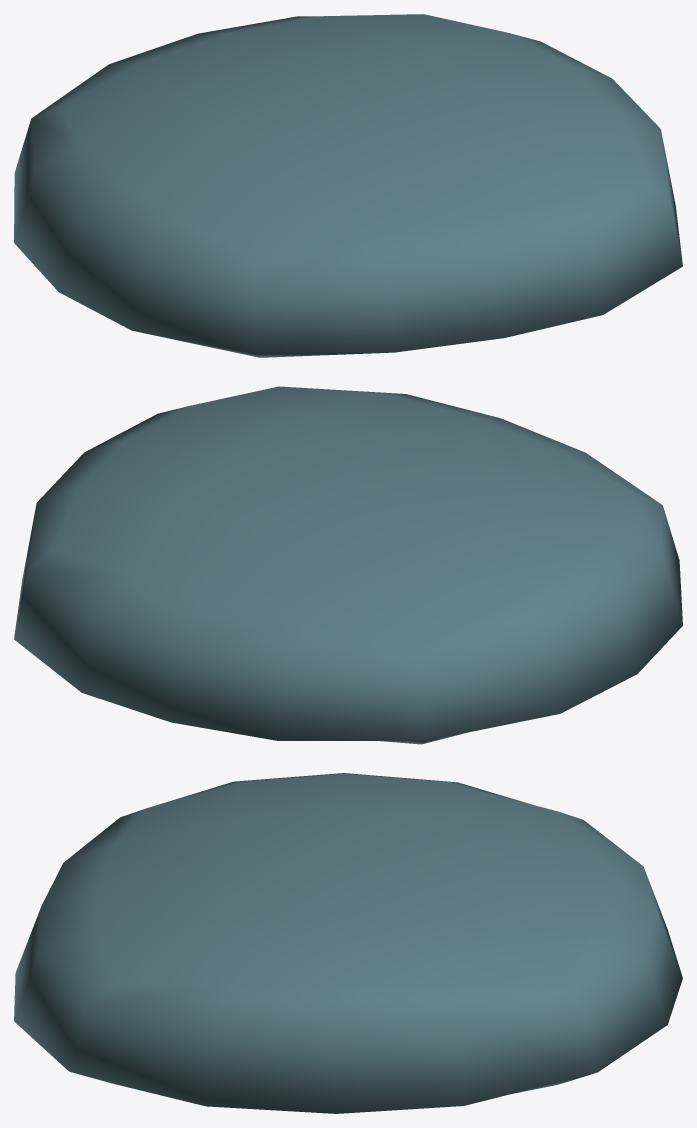
The model's file is Rock_B_01_LOD2.gltf.
3 renders of one model, top to bottom at view 1: azimuth 30°, elevation 25°; view 2: azimuth 150°, elevation 25°; view 3: azimuth 270°, elevation 25°, orthographic.
Visible parts, largest first — view 1: Rock_B_01_LOD2_Cube.754; view 2: Rock_B_01_LOD2_Cube.754; view 3: Rock_B_01_LOD2_Cube.754.
Boxes of the visible parts, x1,y1,x2,y2 form: Rock_B_01_LOD2_Cube.754: (14,14,682,357); Rock_B_01_LOD2_Cube.754: (14,386,682,744); Rock_B_01_LOD2_Cube.754: (14,773,682,1113).
Bounding box in the file's own units: 3.83 × 0.9982 × 3.93.
Materials: 1 (1 with a texture image).
